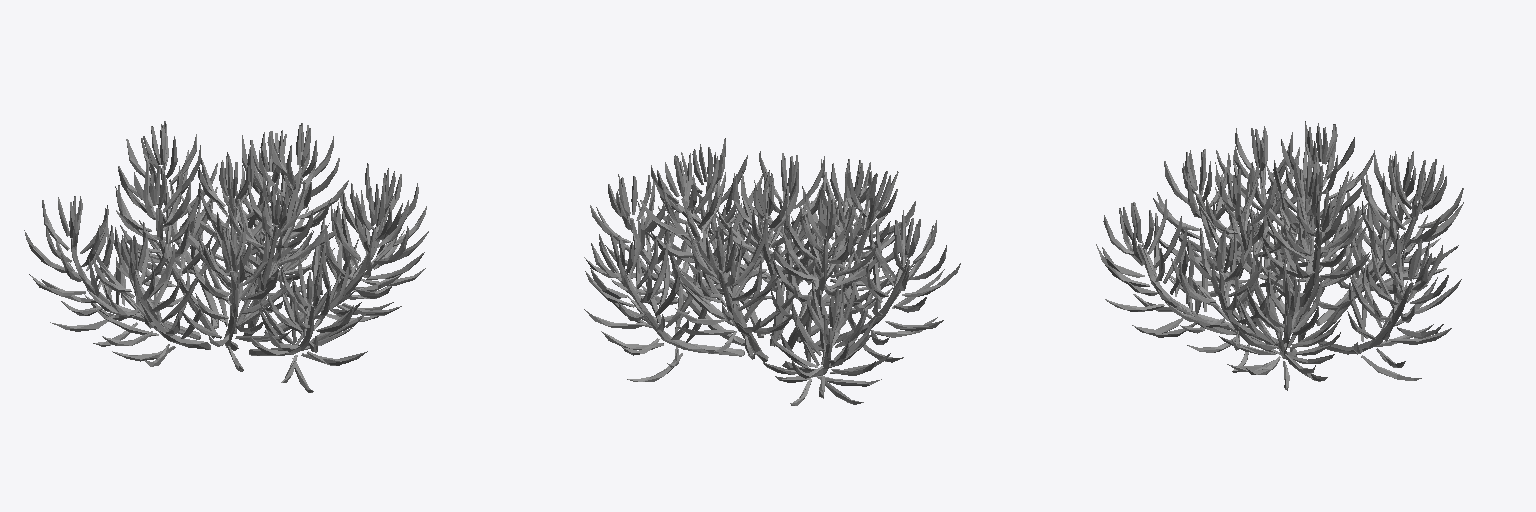
The model's file is senecio_3.obj.
3 views of the same model, side by side, from view 1: azimuth 30°, elevation 25°; view 2: azimuth 150°, elevation 25°; view 3: azimuth 270°, elevation 25° (orthographic).
Parts seen in each view (by area): view 1: Senecio_m__A003; view 2: Senecio_m__A003; view 3: Senecio_m__A003.
Boxes of the visible parts, x1,y1,x2,y2 form: Senecio_m__A003: [24, 121, 428, 392]; Senecio_m__A003: [584, 138, 960, 405]; Senecio_m__A003: [1096, 121, 1463, 390].
Bounding box in the file's own units: 3.87 × 2.08 × 3.61.